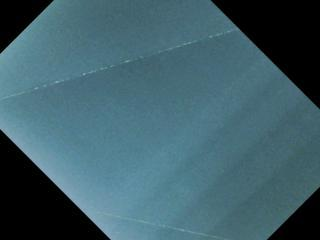crack: (0, 27, 239, 100), (82, 208, 227, 240)
